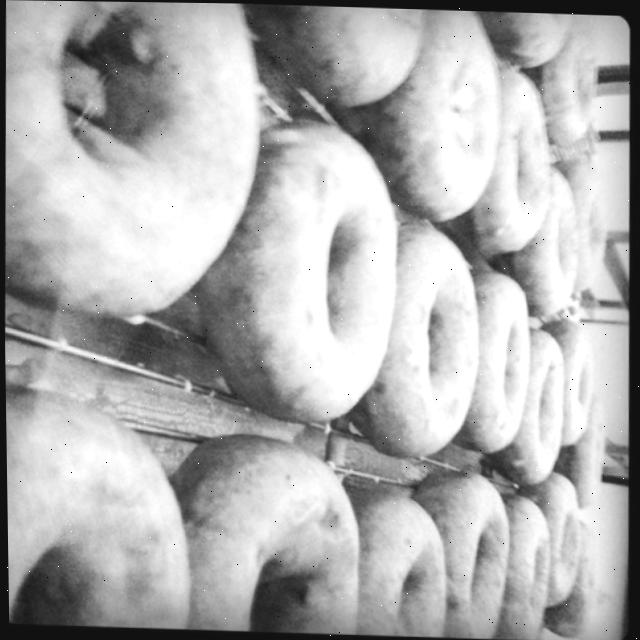炸货点心: (4, 2, 626, 635)
